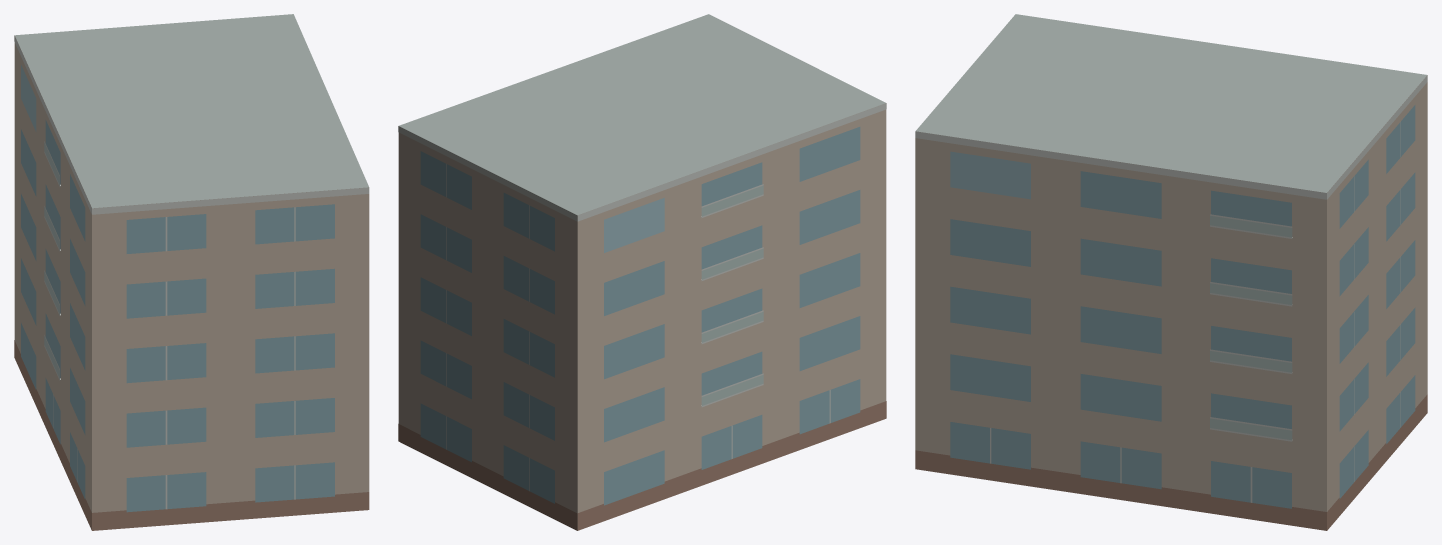
File: survey-upis-32893659.glb
3 views of the same model, side by side, from view 1: azimuth 30°, elevation 25°; view 2: azimuth 150°, elevation 25°; view 3: azimuth 270°, elevation 25° (orthographic). The views are drawn at different scales.
Visible parts, largest first — view 1: survey-upis-32893659.tmp; view 2: survey-upis-32893659.tmp; view 3: survey-upis-32893659.tmp.
Boxes of the visible parts, x1,y1,x2,y2 form: survey-upis-32893659.tmp: [14, 14, 369, 530]; survey-upis-32893659.tmp: [398, 14, 886, 530]; survey-upis-32893659.tmp: [915, 14, 1427, 530].
Bounding box in the file's own units: 13.76 × 12.1 × 16.64.
